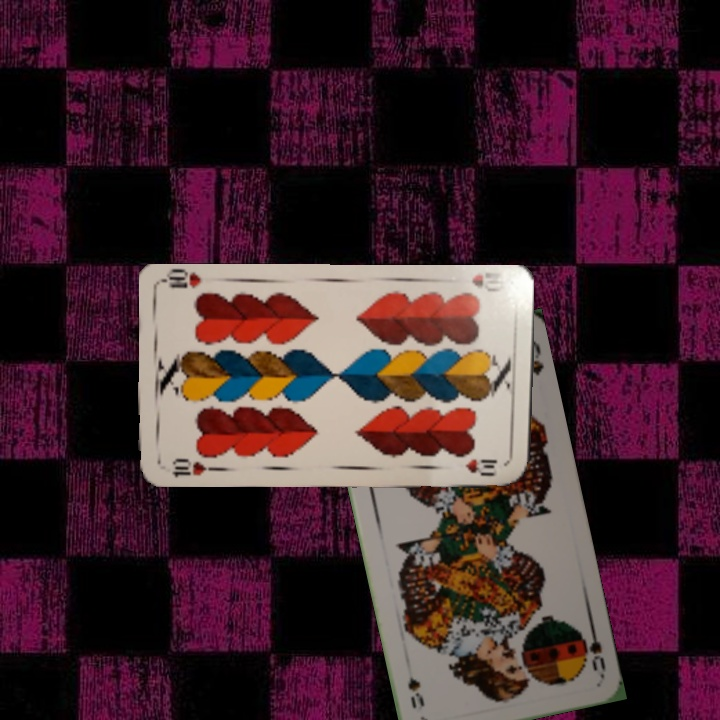H10: (167, 454, 219, 480), (468, 269, 509, 294)
SO: (576, 619, 608, 678)
